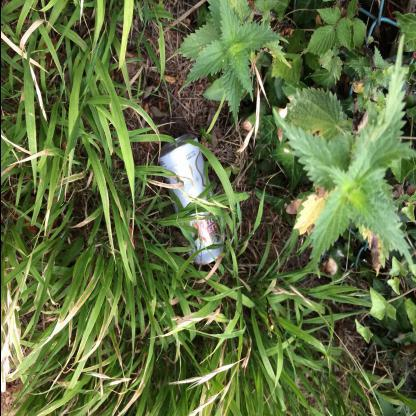metal: (156, 134, 225, 268)
